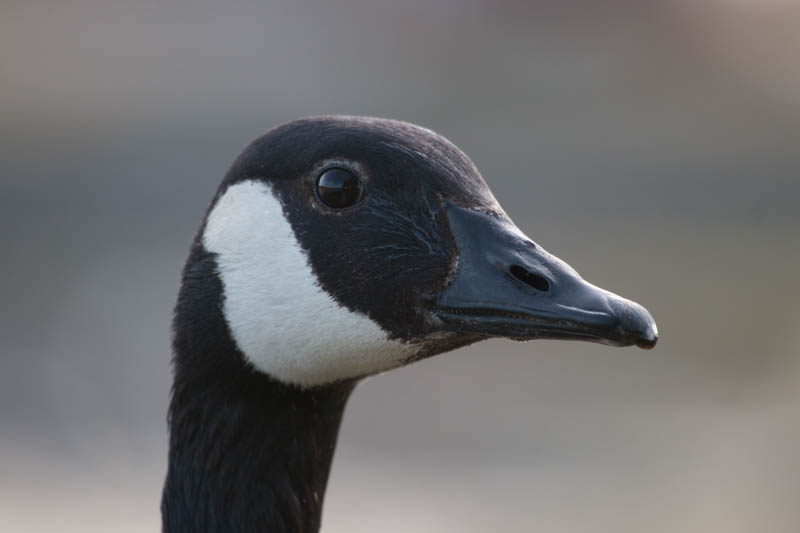goose-head: (171, 116, 659, 390)
